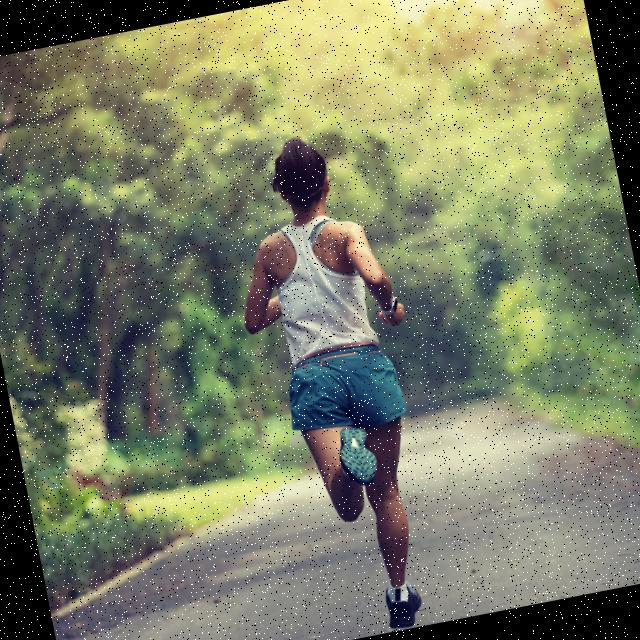Person: (213, 125, 464, 640)
